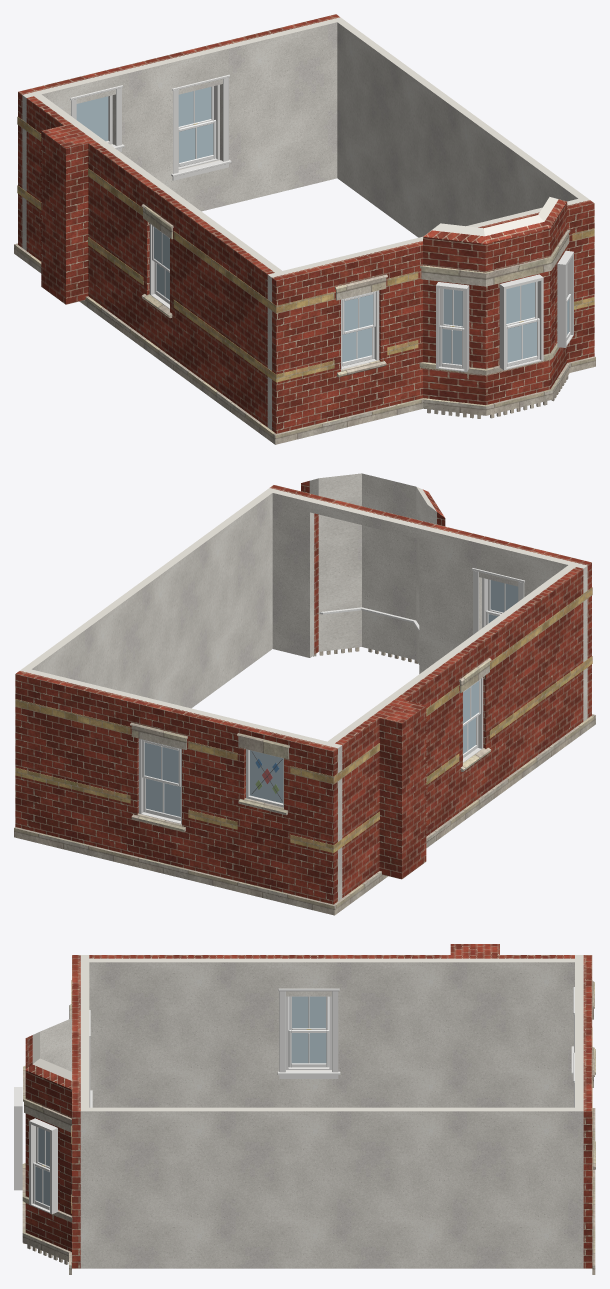
Rendered from shell_1_l.glb.
The picture shows the model from 3 angles, top to bottom: view 1: azimuth 30°, elevation 25°; view 2: azimuth 150°, elevation 25°; view 3: azimuth 270°, elevation 25°; orthographic projection.
Parts seen in each view (by area): view 1: shell_1_l_brick, shell_1_l_plaster, shell_1_l_stone_c, shell_1_l_glass, shell_1_l_frame, shell_1_l_brick_y, shell_1_l_sash, shell_1_l_trim; view 2: shell_1_l_brick, shell_1_l_plaster, shell_1_l_stone_c, shell_1_l_brick_y, shell_1_l_glass, shell_1_l_frame, shell_1_l_sash, shell_1_l_trim; view 3: shell_1_l_plaster, shell_1_l_brick, shell_1_l_glass, shell_1_l_stone_c, shell_1_l_frame, shell_1_l_trim, shell_1_l_sash.
Part boxes in pixels (x1=…): shell_1_l_brick: x1=18, y1=14, x2=594, y2=433; shell_1_l_plaster: x1=22, y1=17, x2=589, y2=430; shell_1_l_stone_c: x1=14, y1=204, x2=595, y2=444; shell_1_l_glass: x1=76, y1=87, x2=569, y2=364; shell_1_l_frame: x1=106, y1=84, x2=573, y2=371; shell_1_l_brick_y: x1=17, y1=116, x2=594, y2=382; shell_1_l_sash: x1=152, y1=86, x2=570, y2=369; shell_1_l_trim: x1=70, y1=74, x2=231, y2=180; shell_1_l_brick: x1=15, y1=481, x2=591, y2=904; shell_1_l_plaster: x1=20, y1=473, x2=587, y2=900; shell_1_l_stone_c: x1=14, y1=647, x2=595, y2=915; shell_1_l_brick_y: x1=15, y1=587, x2=592, y2=853; shell_1_l_glass: x1=144, y1=580, x2=518, y2=816; shell_1_l_frame: x1=138, y1=578, x2=487, y2=823; shell_1_l_sash: x1=142, y1=579, x2=505, y2=820; shell_1_l_trim: x1=319, y1=568, x2=524, y2=634; shell_1_l_plaster: x1=32, y1=955, x2=583, y2=1268; shell_1_l_brick: x1=25, y1=944, x2=592, y2=1268; shell_1_l_glass: x1=35, y1=996, x2=326, y2=1206; shell_1_l_stone_c: x1=22, y1=981, x2=595, y2=1274; shell_1_l_frame: x1=14, y1=996, x2=331, y2=1214; shell_1_l_trim: x1=89, y1=987, x2=574, y2=1107; shell_1_l_sash: x1=33, y1=996, x2=329, y2=1210.
Size of the model in its own units: 6.85 by 3.54 by 10.06.
Materials: 13 (4 with a texture image).
